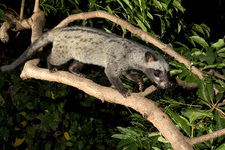Civet: (42, 23, 176, 101)
